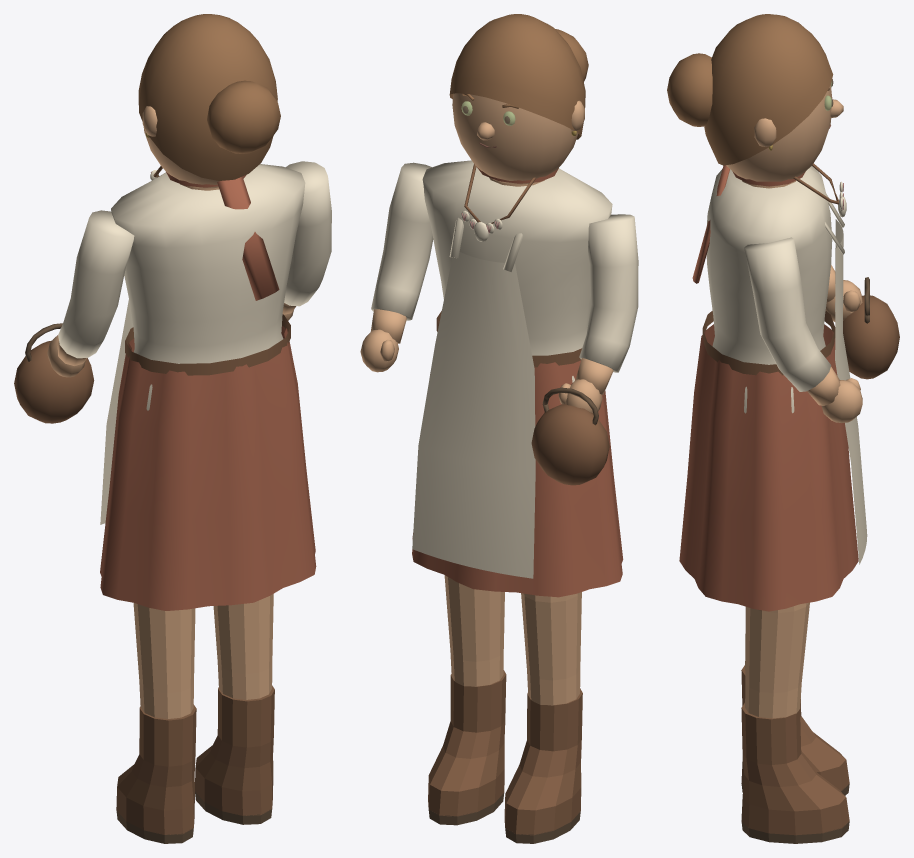
Rendered from SM_NPC_MERC.glb.
3 renders of one model, left to right at view 1: azimuth 30°, elevation 25°; view 2: azimuth 150°, elevation 25°; view 3: azimuth 270°, elevation 25°, orthographic. The views are drawn at different scales.
Parts seen in each view (by area): view 1: SM_NPC_MERC_BODY, SM_NPC_MERC_HAIR, SM_NPC_MERC_LEG_L, SM_NPC_MERC_LEG_R, SM_NPC_MERC_ARM_L, SM_NPC_MERC_ARM_R, SM_NPC_MERC_HEAD; view 2: SM_NPC_MERC_BODY, SM_NPC_MERC_LEG_L, SM_NPC_MERC_LEG_R, SM_NPC_MERC_ARM_L, SM_NPC_MERC_HAIR, SM_NPC_MERC_ARM_R, SM_NPC_MERC_HEAD; view 3: SM_NPC_MERC_BODY, SM_NPC_MERC_LEG_R, SM_NPC_MERC_HAIR, SM_NPC_MERC_ARM_R, SM_NPC_MERC_ARM_L, SM_NPC_MERC_HEAD, SM_NPC_MERC_LEG_L.
Boxes of the visible parts, x1,y1,x2,y2 form: SM_NPC_MERC_BODY: (100,164,316,610); SM_NPC_MERC_HAIR: (138,14,280,180); SM_NPC_MERC_LEG_L: (116,603,196,843); SM_NPC_MERC_LEG_R: (195,594,274,824); SM_NPC_MERC_ARM_L: (14,210,134,423); SM_NPC_MERC_ARM_R: (282,161,331,320); SM_NPC_MERC_HEAD: (142,89,276,188); SM_NPC_MERC_BODY: (412,160,623,597); SM_NPC_MERC_LEG_L: (504,592,582,843); SM_NPC_MERC_LEG_R: (428,575,506,825); SM_NPC_MERC_ARM_L: (531,214,638,485); SM_NPC_MERC_HAIR: (449,14,588,139); SM_NPC_MERC_ARM_R: (360,162,433,372); SM_NPC_MERC_HEAD: (452,93,584,184); SM_NPC_MERC_BODY: (679,163,867,611); SM_NPC_MERC_LEG_R: (741,602,849,843); SM_NPC_MERC_HAIR: (667,14,833,165); SM_NPC_MERC_ARM_R: (744,237,862,422); SM_NPC_MERC_ARM_L: (825,265,899,379); SM_NPC_MERC_HEAD: (726,85,843,186); SM_NPC_MERC_LEG_L: (741,607,849,795).
Bounding box in the file's own units: 0.6323 × 1.81 × 0.4827.
